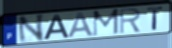A: (67, 11, 96, 39), (43, 13, 71, 40)
M: (92, 8, 120, 38)
N: (17, 13, 46, 44)
R: (119, 7, 143, 35)
T: (146, 6, 165, 31)
